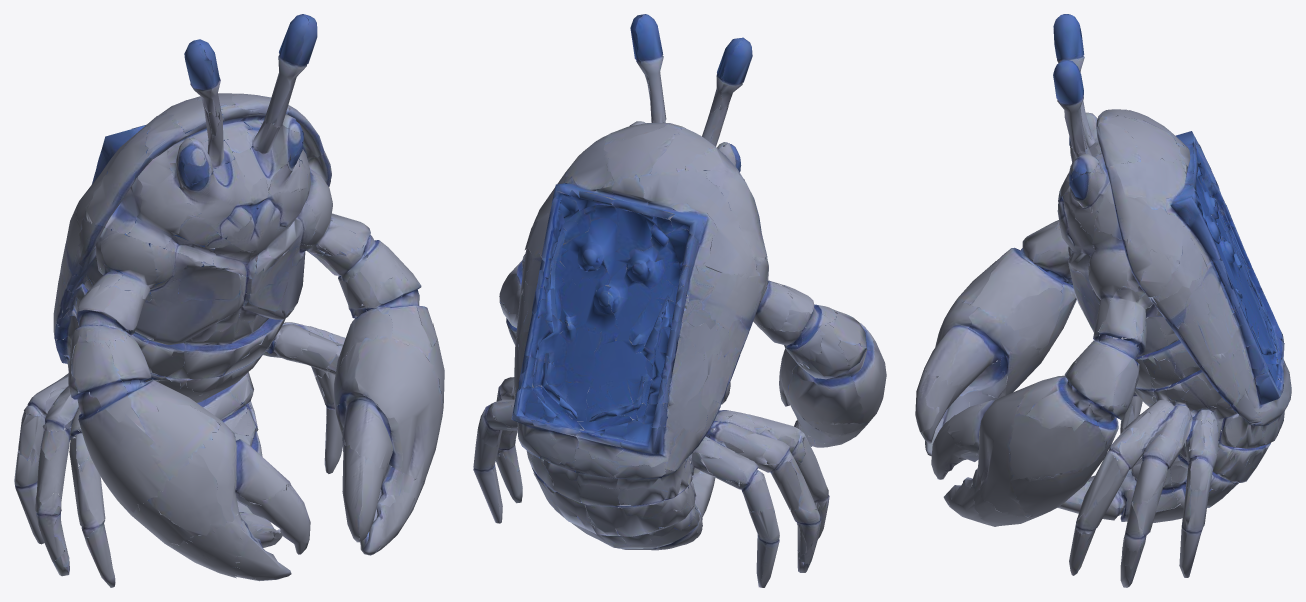
3 renders of one model, left to right at view 1: azimuth 30°, elevation 25°; view 2: azimuth 150°, elevation 25°; view 3: azimuth 270°, elevation 25°, orthographic. The views are drawn at different scales.
Parts seen in each view (by area): view 1: Mesh_0; view 2: Mesh_0; view 3: Mesh_0.
Boxes of the visible parts, <box> form: Mesh_0: <box>14,14,444,587</box>; Mesh_0: <box>473,14,886,587</box>; Mesh_0: <box>915,14,1291,587</box>.
Size of the model in its own units: 1.38 by 1.9 by 1.35.
Materials: 1 (1 with a texture image).
